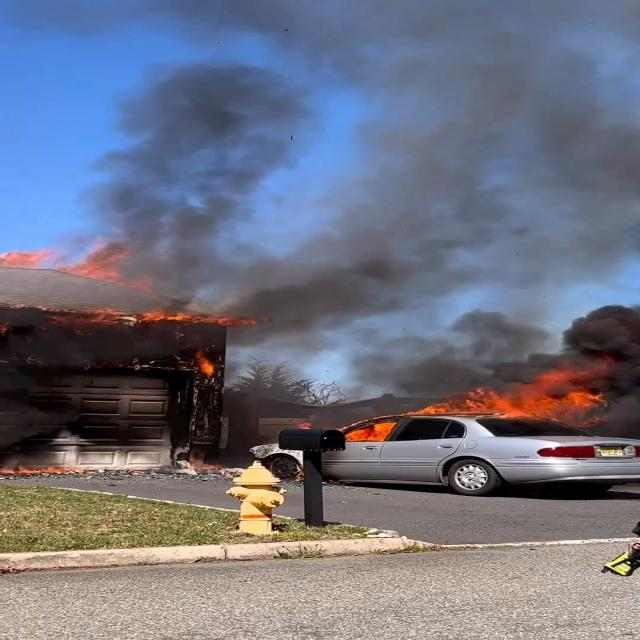Fire: (450, 383, 610, 418)
Smoke: (172, 99, 614, 272)
